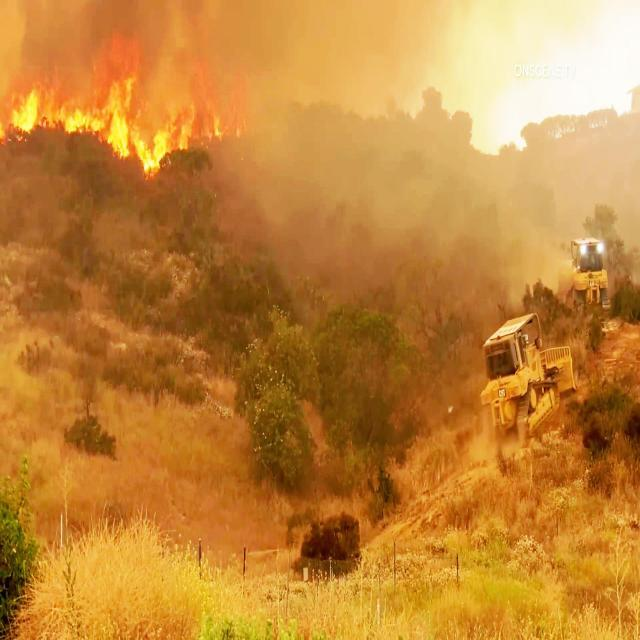Fire: (89, 3, 168, 158), (131, 73, 242, 154), (5, 56, 73, 145)
